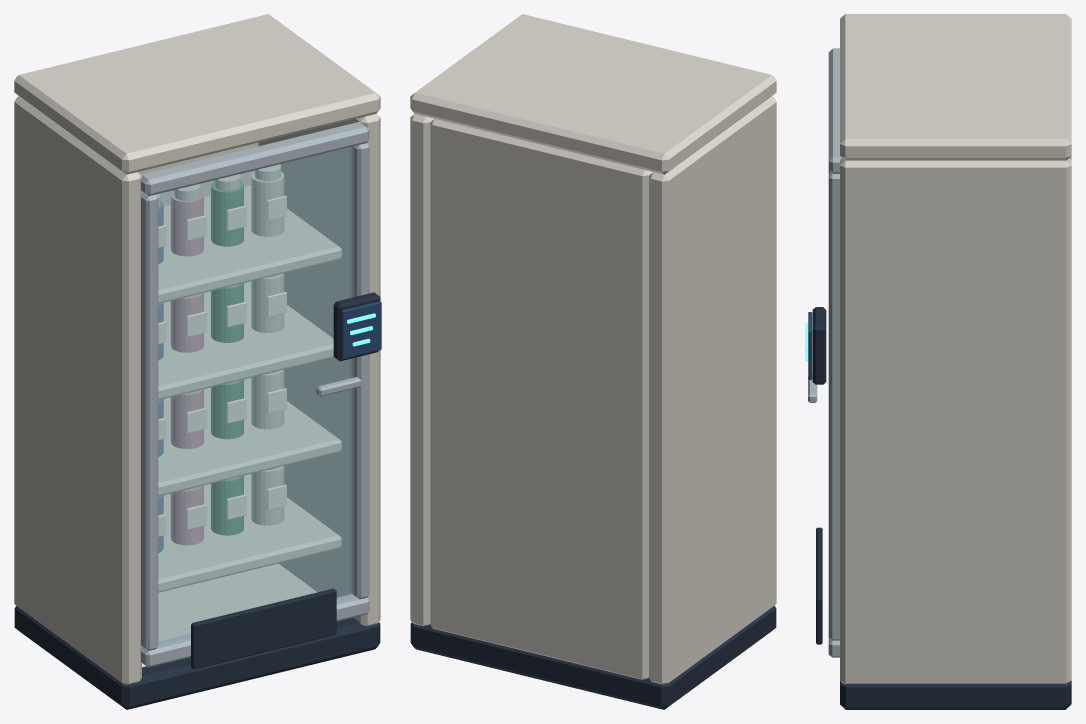
Rendered from retail_10.glb.
The picture shows the model from 3 angles, left to right: view 1: azimuth 30°, elevation 25°; view 2: azimuth 150°, elevation 25°; view 3: azimuth 270°, elevation 25°; orthographic projection. The views are drawn at different scales.
Visible parts, largest first — view 1: Side (×2), InsetPanel, Shelf (×4), Top, Bottle (×12), GlazedSideRail (×2), Base, DispenseSlot, Bottom, GlazedTopRail, DoorPanel, Screen (+2 smaller); view 2: Back, Side (×2), Top, Base; view 3: Side, Top, Base, GlazedSideRail, GlazedTopRail, MonitorFrame, DispenseSlot.
Boxes of the visible parts, box(x1,y1,x2,y2) form: Side (×2): box(14, 96, 380, 684); InsetPanel: box(156, 146, 355, 645); Shelf (×4): box(158, 185, 341, 592); Top: box(14, 14, 380, 174); Bottle (×12): box(170, 172, 284, 545); GlazedSideRail (×2): box(141, 143, 369, 650); Base: box(14, 564, 380, 709); DispenseSlot: box(191, 588, 336, 669); Bottom: box(142, 563, 317, 667); GlazedTopRail: box(141, 122, 369, 195); DoorPanel: box(141, 594, 369, 667); Screen: box(341, 301, 381, 358); Back: box(430, 118, 652, 679); Side (×2): box(410, 96, 776, 684); Top: box(410, 14, 776, 174); Base: box(410, 606, 776, 709); Side: box(840, 158, 1071, 684); Top: box(840, 14, 1071, 160); Base: box(840, 681, 1071, 709); GlazedSideRail: box(828, 172, 839, 640); GlazedTopRail: box(828, 48, 841, 173); MonitorFrame: box(812, 307, 826, 384); DispenseSlot: box(816, 527, 822, 644).
Bounding box in the file's own units: 0.9 × 1.85 × 0.781.
